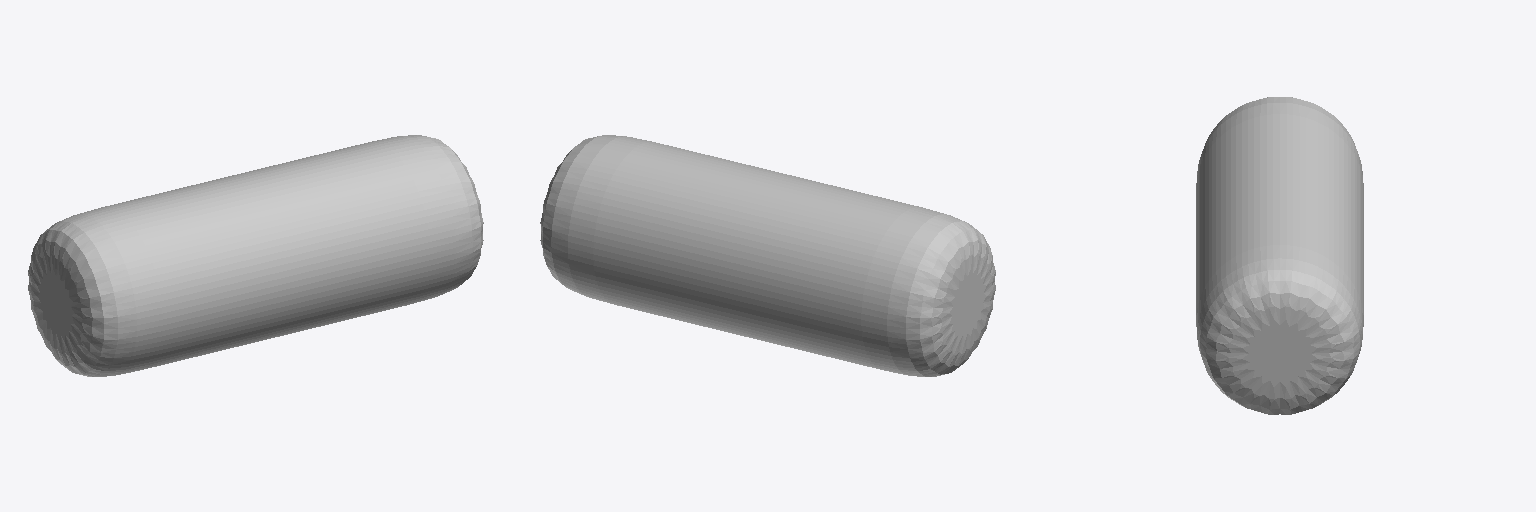
File: luarm.obj
The picture shows the model from 3 angles: view 1: azimuth 30°, elevation 25°; view 2: azimuth 150°, elevation 25°; view 3: azimuth 270°, elevation 25°; orthographic projection.
Parts seen in each view (by area): view 1: pCylinder1; view 2: pCylinder1; view 3: pCylinder1.
Part boxes in pixels (x1,y1,x2,y2): pCylinder1: (28, 135, 483, 376); pCylinder1: (540, 135, 995, 376); pCylinder1: (1196, 97, 1363, 414).
Size of the model in its own units: 1.38 by 0.5021 by 0.5021.